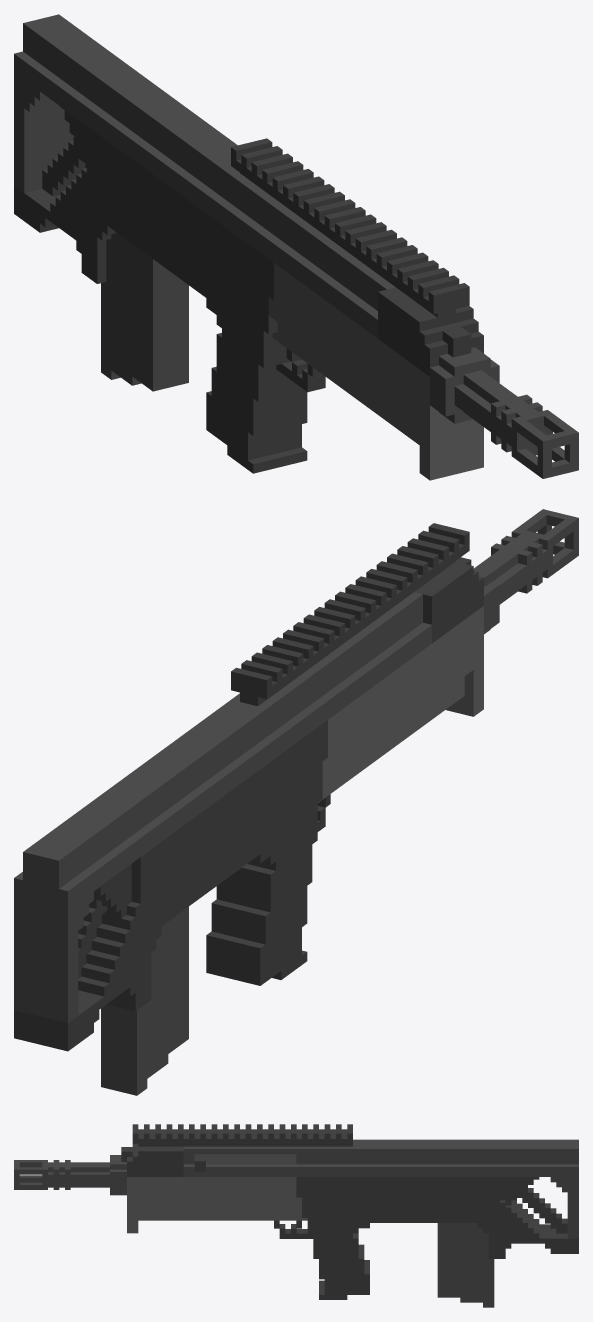
The model's file is Rifle_2.obj.
3 renders of one model, top to bottom at view 1: azimuth 30°, elevation 25°; view 2: azimuth 150°, elevation 25°; view 3: azimuth 270°, elevation 25°, orthographic. The views are drawn at different scales.
Bounding box in the file's own units: 8 × 34 × 100.
